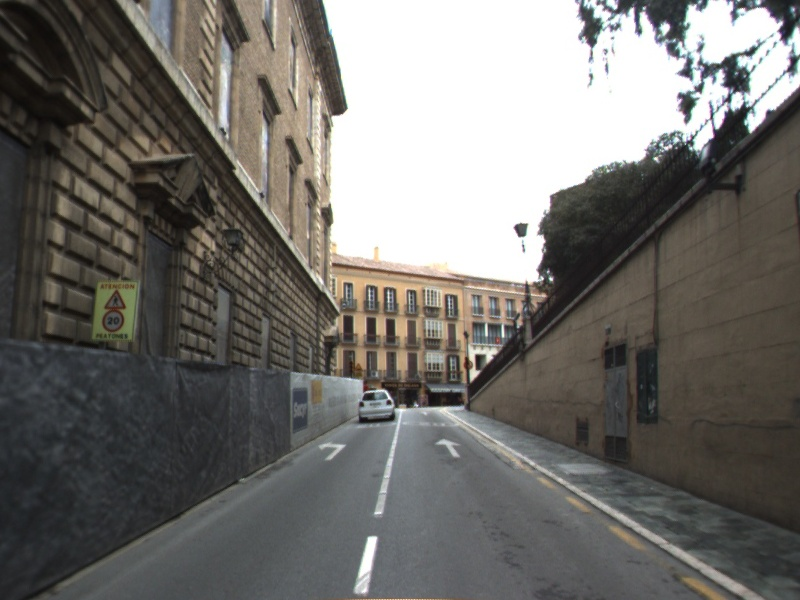LEFT: (315, 439, 349, 462)
STRAIGHT: (432, 436, 465, 460)
